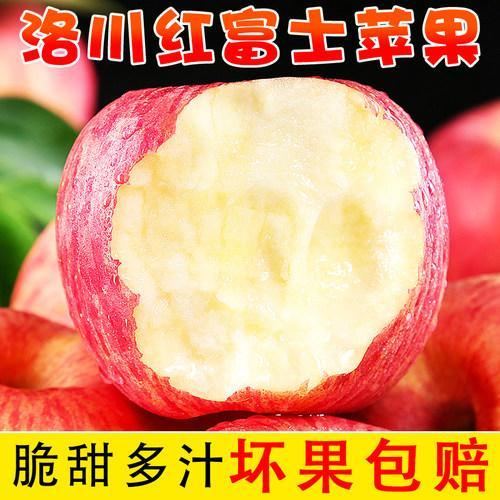apple: (54, 74, 449, 421), (364, 273, 499, 431), (1, 309, 155, 432), (428, 96, 500, 284)
